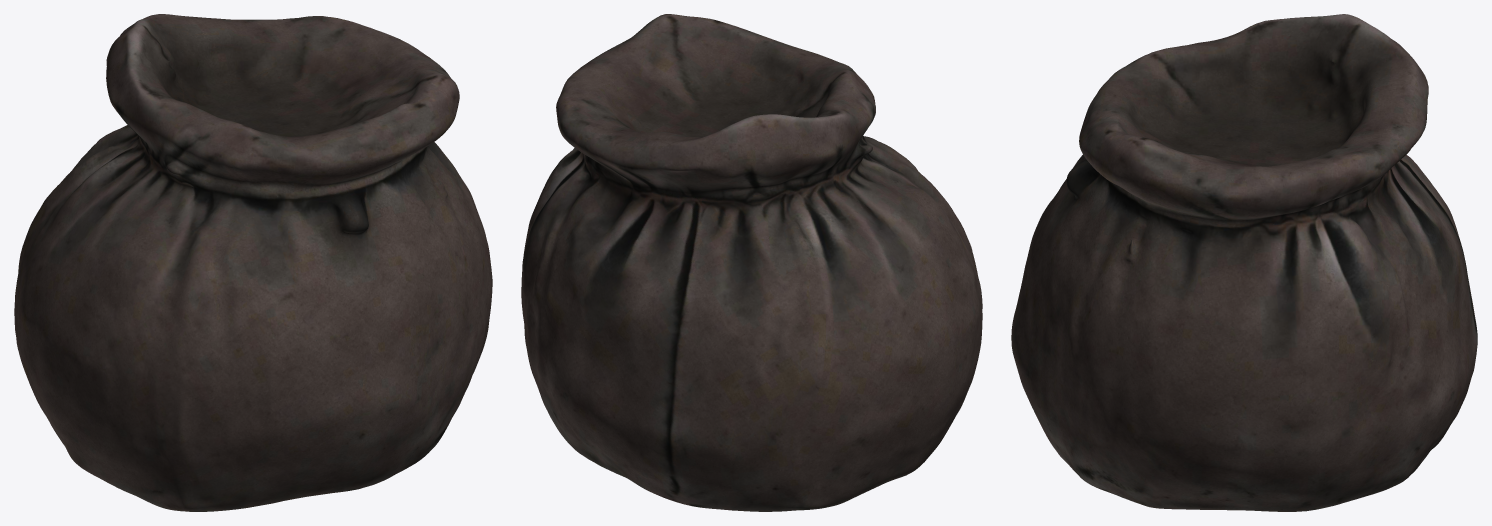
The model's file is 071d402e04ac_low_poly_opened_sac.fbx.
3 views of the same model, side by side, from view 1: azimuth 30°, elevation 25°; view 2: azimuth 150°, elevation 25°; view 3: azimuth 270°, elevation 25° (orthographic). The views are drawn at different scales.
Parts seen in each view (by area): view 1: high_poly; view 2: high_poly; view 3: high_poly.
Part boxes in pixels (left/top/right/bottom): high_poly: left=14, top=14, right=492, bottom=511; high_poly: left=521, top=14, right=982, bottom=511; high_poly: left=1011, top=14, right=1477, bottom=511.
Size of the model in its own units: 100 by 89.06 by 93.69.
